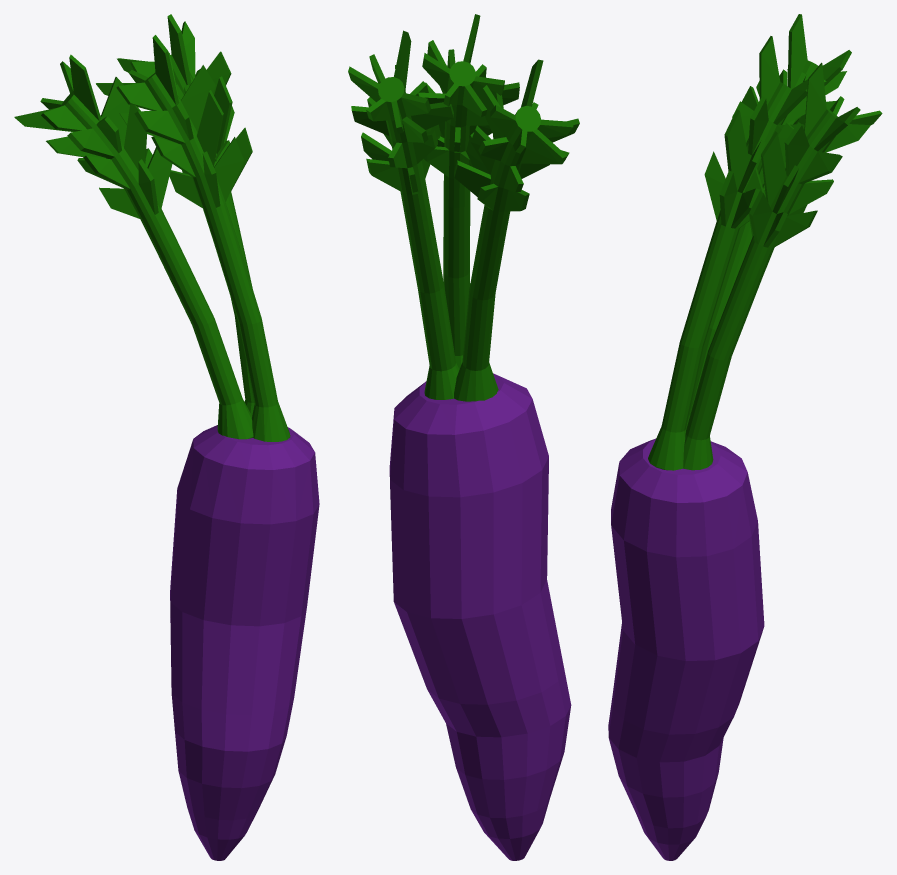
Rendered from CarrotPurple_v.1.5.fbx.
3 views of the same model, side by side, from view 1: azimuth 30°, elevation 25°; view 2: azimuth 150°, elevation 25°; view 3: azimuth 270°, elevation 25° (orthographic). The views are drawn at different scales.
Visible parts, largest first — view 1: Cylinder.003; view 2: Cylinder.003; view 3: Cylinder.003.
Boxes of the visible parts, x1,y1,x2,y2 form: Cylinder.003: (14,14,319,860); Cylinder.003: (348,14,579,860); Cylinder.003: (608,14,882,860).
Size of the model in its own units: 150 by 509 by 155.
